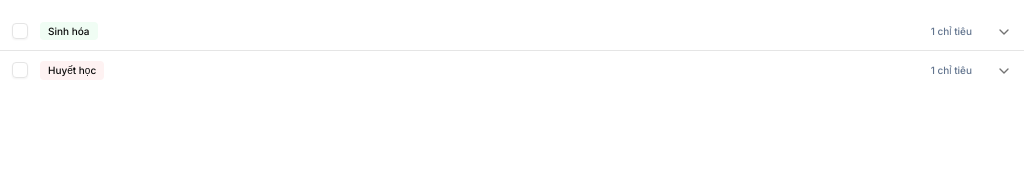
Test: AccessionMobileTestList — real Accordion integration › opening group B closes group A (single-expand)
This screenshot has width=1036, height=174.
Note: Open group A (Sinh hóa)
Step 1. Click the button "Sinh hóa 1 chỉ tiêu" → (69, 31), box [28,12,1024,50]
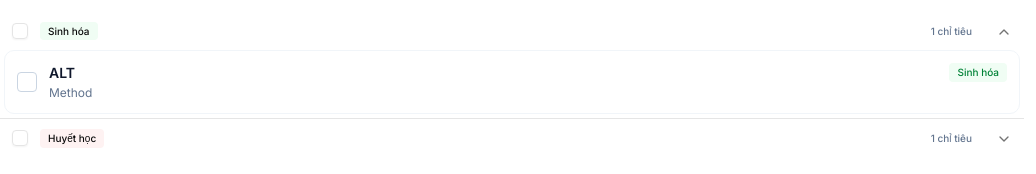
Check: the text "ALT" is shown, box [49,64,75,81]
Note: Open group B (Huyết học)
Step 2. Click the button "Huyết học 1 chỉ tiêu" → (72, 138), box [28,119,1024,158]
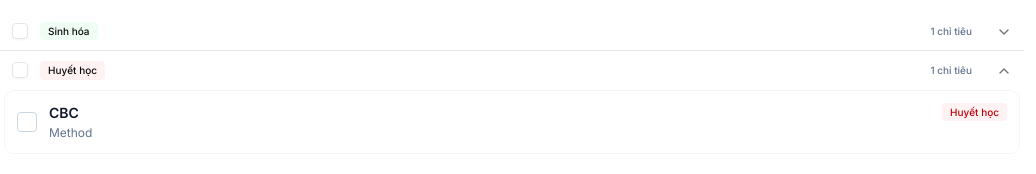
Check: the text "CBC" is shown, box [49,104,79,121]
